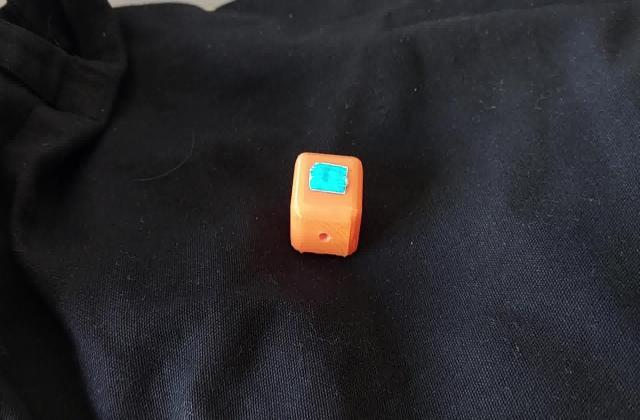blue: (317, 168, 343, 188)
sticker: (285, 150, 366, 259)
